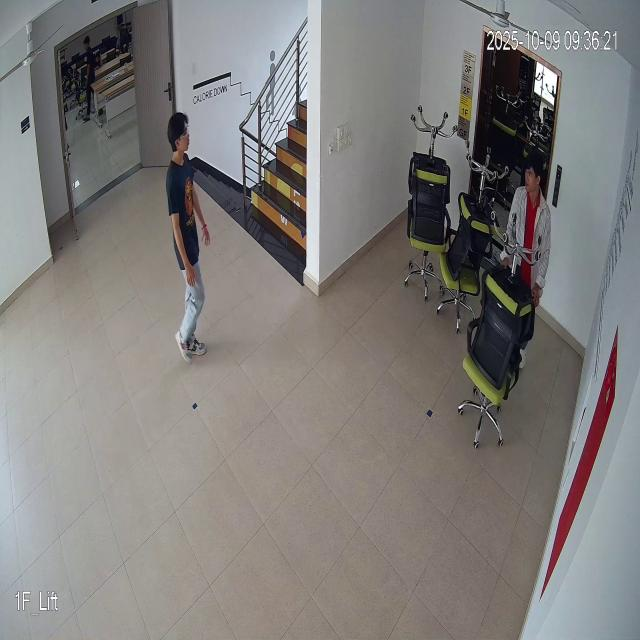face: (164, 107, 192, 165), (523, 151, 544, 200)
